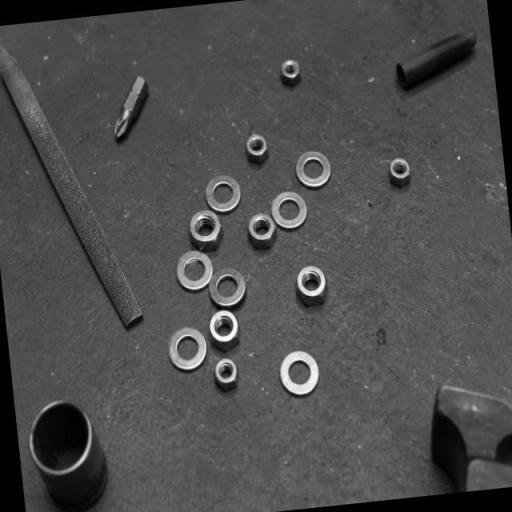Nut: (295, 264, 327, 304), (189, 210, 221, 248), (209, 308, 239, 344), (247, 212, 277, 247), (213, 356, 239, 390), (245, 133, 268, 160), (389, 157, 412, 183), (280, 59, 301, 82)
Washer: (278, 350, 321, 398), (167, 326, 208, 373), (175, 248, 215, 292), (208, 267, 247, 309), (270, 191, 309, 231), (294, 150, 332, 190), (204, 175, 242, 214)
